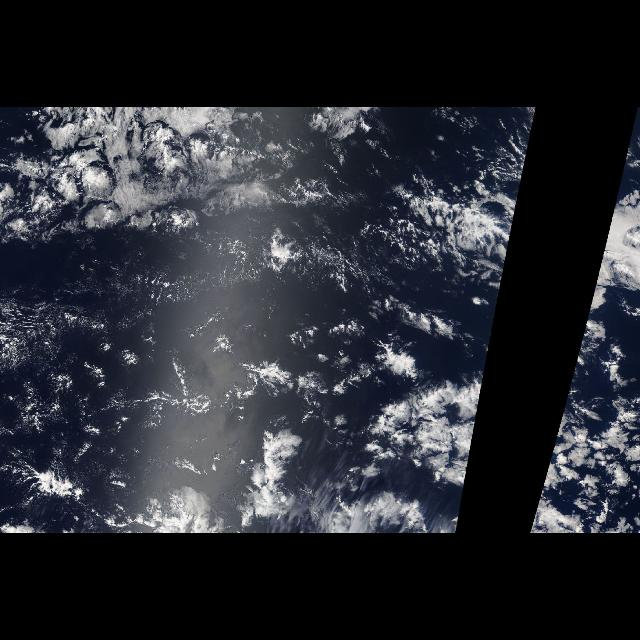Flower: (11, 111, 322, 237), (391, 329, 494, 515), (534, 329, 636, 515)
Sugar: (14, 270, 210, 372)
